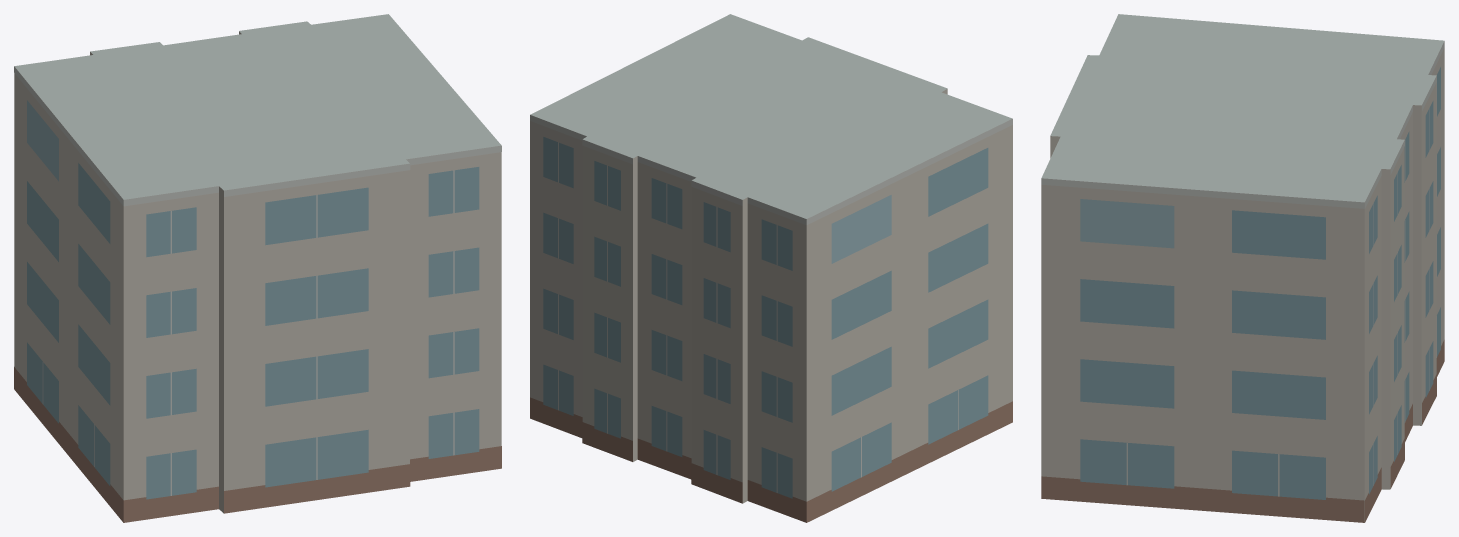
Rendered from survey-upis-33002229.glb.
The picture shows the model from 3 angles, left to right: view 1: azimuth 30°, elevation 25°; view 2: azimuth 150°, elevation 25°; view 3: azimuth 270°, elevation 25°; orthographic projection. The views are drawn at different scales.
Visible parts, largest first — view 1: survey-upis-33002229.tmp; view 2: survey-upis-33002229.tmp; view 3: survey-upis-33002229.tmp.
Boxes of the visible parts, box(x1,y1,x2,y2) form: survey-upis-33002229.tmp: box(14, 14, 501, 522); survey-upis-33002229.tmp: box(530, 14, 1012, 522); survey-upis-33002229.tmp: box(1041, 14, 1444, 522).
Size of the model in its own units: 15.21 by 12.05 by 13.76.
